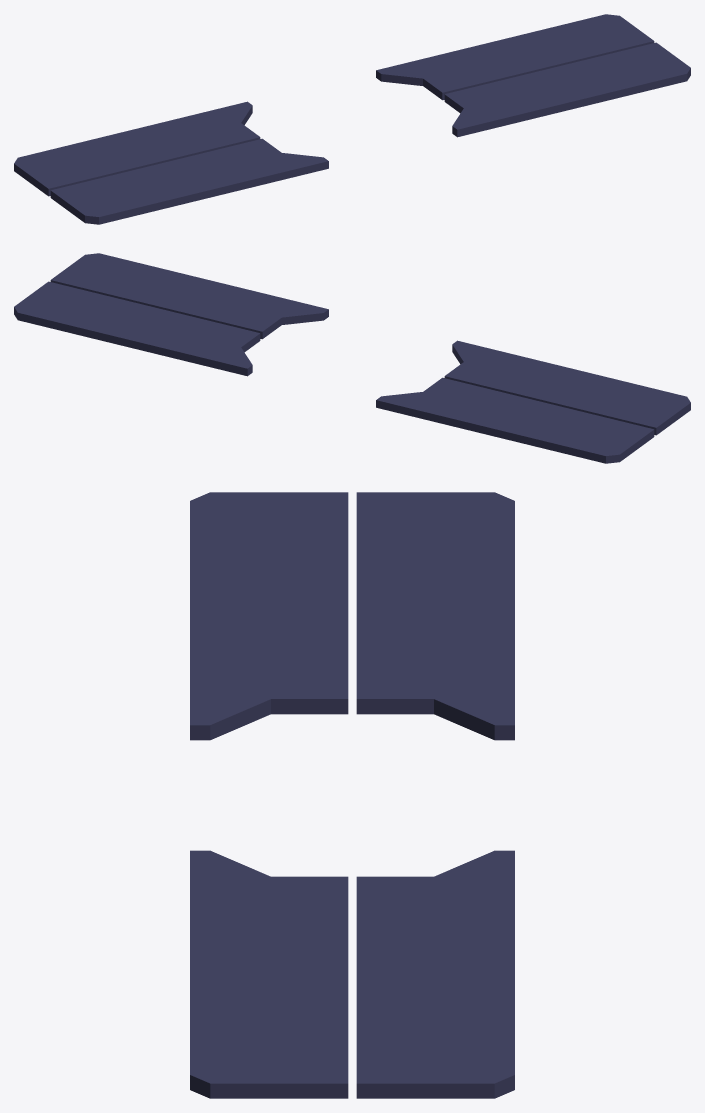
File: plattwings.fbx
3 renders of one model, top to bottom at view 1: azimuth 30°, elevation 25°; view 2: azimuth 150°, elevation 25°; view 3: azimuth 270°, elevation 25°, orthographic. The views are drawn at different scales.
Parts seen in each view (by area): view 1: Room21_002_Cylinder_006; view 2: Room21_002_Cylinder_006; view 3: Room21_002_Cylinder_006.
Part boxes in pixels (x1=…): Room21_002_Cylinder_006: x1=14, y1=14, x2=690, y2=224; Room21_002_Cylinder_006: x1=14, y1=253, x2=690, y2=463; Room21_002_Cylinder_006: x1=190, y1=492, x2=514, y2=1098.
Size of the model in its own units: 38.04 by 0.4554 by 8.84.
